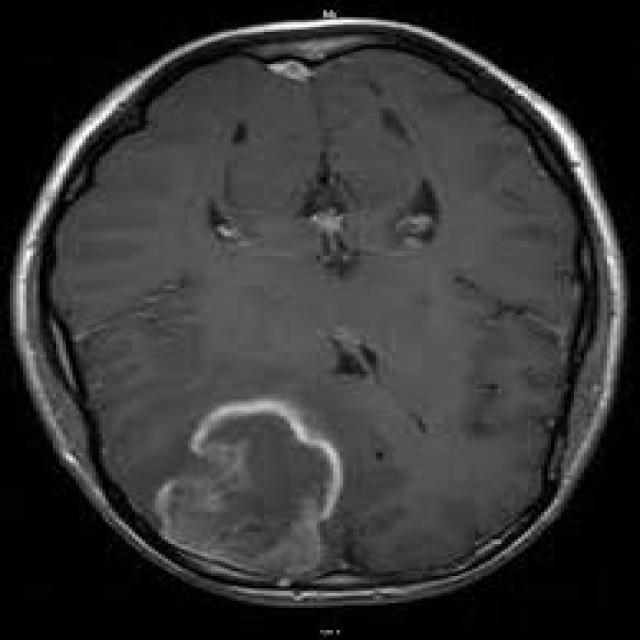Tumor-Cell: (136, 402, 357, 587)
